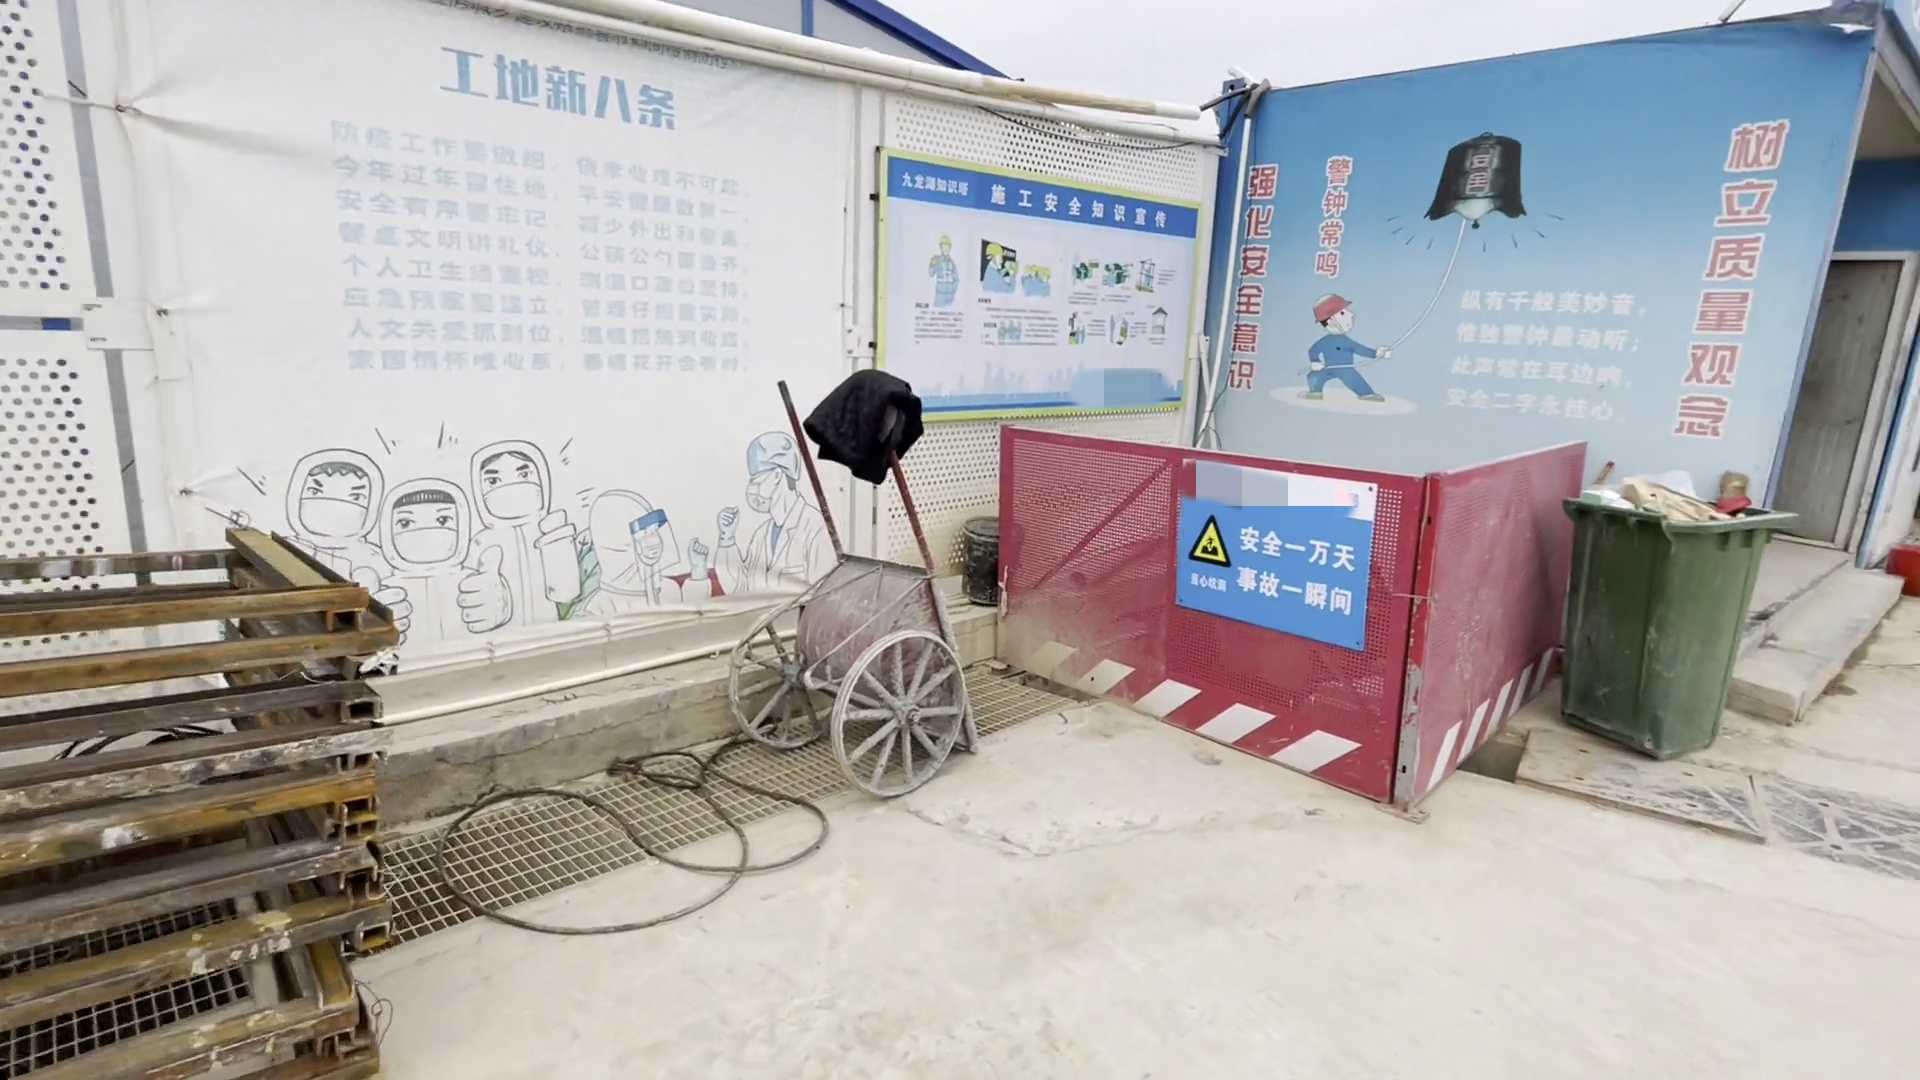handcart: (736, 375, 1000, 803)
slogan: (1174, 472, 1373, 653)
